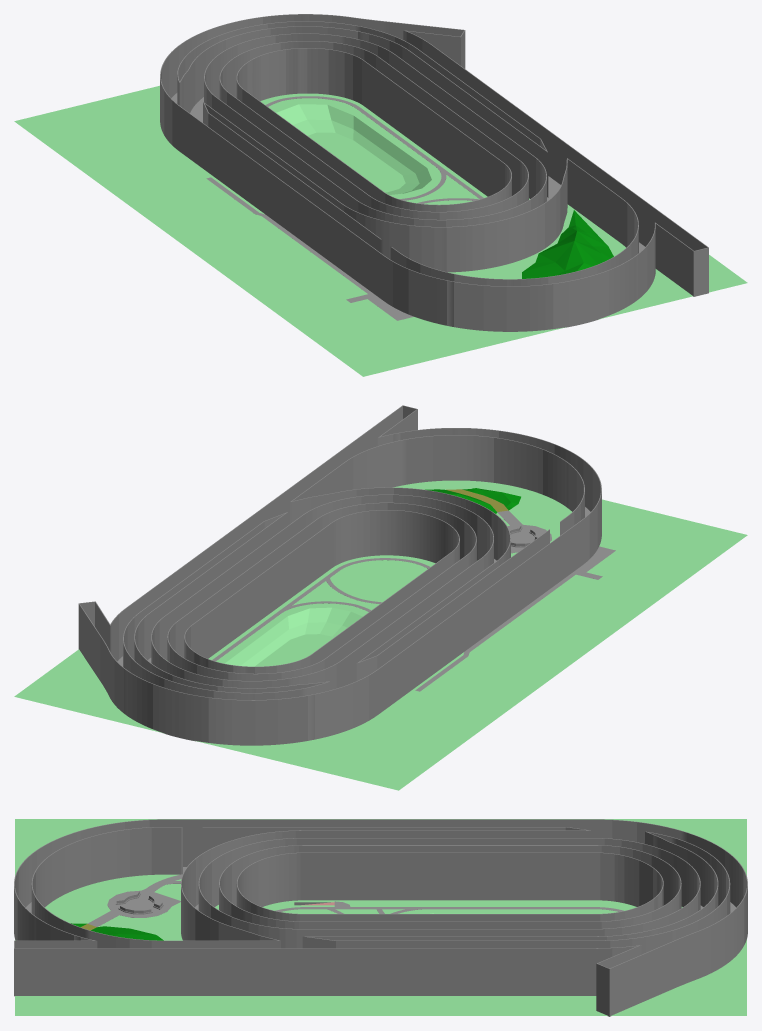
The model's file is Track.fbx.
3 renders of one model, top to bottom at view 1: azimuth 30°, elevation 25°; view 2: azimuth 150°, elevation 25°; view 3: azimuth 270°, elevation 25°, orthographic. The views are drawn at different scales.
Parts seen in each view (by area): view 1: Shape011, Object007, Line001, road, Object006; view 2: Shape011, Object007, road, Object006, Line001; view 3: Shape011, Object007, Object008, Object006, Line001, Object.
Part boxes in pixels (x1,y1,x2,y2): Shape011: [160, 14, 708, 331]; Object007: [14, 85, 747, 376]; Line001: [522, 210, 613, 278]; road: [206, 177, 413, 320]; Object006: [266, 96, 483, 203]; Shape011: [78, 405, 601, 745]; Object007: [14, 480, 747, 790]; road: [415, 546, 615, 691]; Object006: [212, 558, 430, 661]; Line001: [425, 488, 520, 513]; Shape011: [14, 819, 747, 1016]; Object007: [15, 819, 746, 1015]; Object008: [88, 874, 182, 926]; Object006: [275, 901, 623, 913]; Line001: [71, 923, 163, 940]; Object: [116, 891, 162, 913].
Size of the model in its own units: 55319 by 7856 by 86925.
